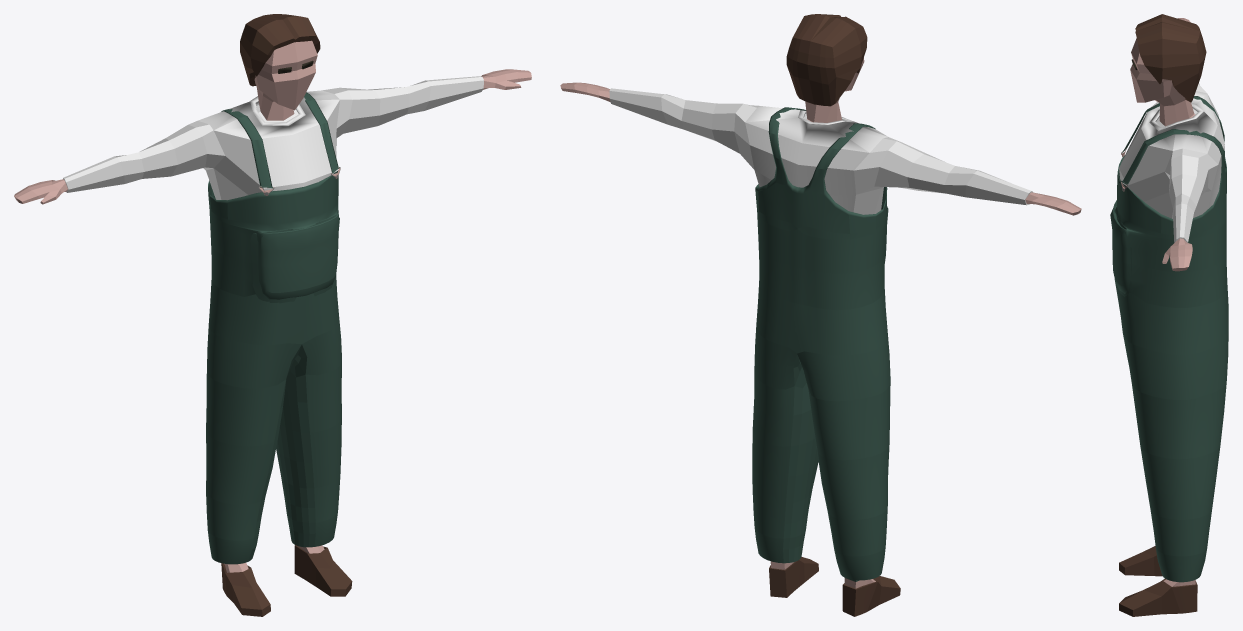
Rendered from robotnik.fbx.
3 views of the same model, side by side, from view 1: azimuth 30°, elevation 25°; view 2: azimuth 150°, elevation 25°; view 3: azimuth 270°, elevation 25° (orthographic).
Visible parts, largest first — view 1: man armature.002; view 2: man armature.002; view 3: man armature.002.
Boxes of the visible parts, x1,y1,x2,y2 form: man armature.002: (14,14,531,616); man armature.002: (560,14,1081,616); man armature.002: (1110,14,1228,616).
Size of the model in its own units: 962 by 1026 by 193.
